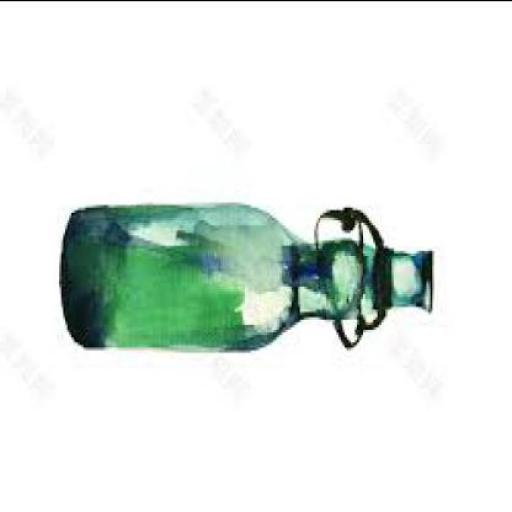glass: (61, 202, 435, 346)
